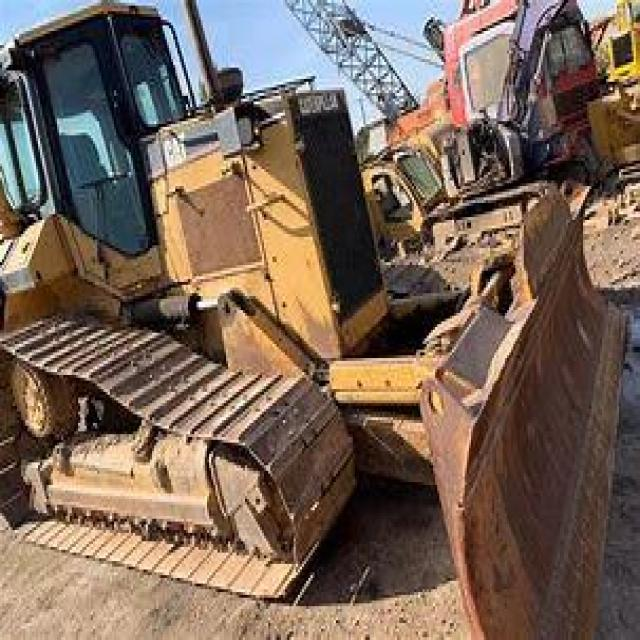buldozerpayloadergrader: (4, 6, 638, 637)
